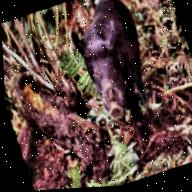boar: (48, 0, 182, 166)
